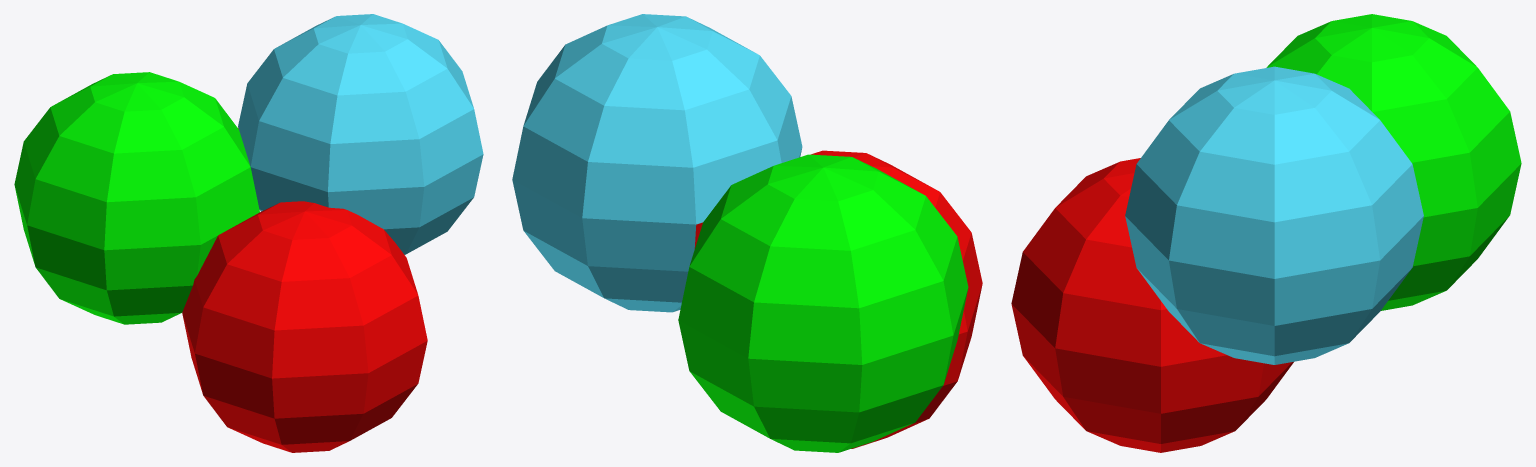
File: enemy_baloons.glb
The picture shows the model from 3 angles, left to right: view 1: azimuth 30°, elevation 25°; view 2: azimuth 150°, elevation 25°; view 3: azimuth 270°, elevation 25°; orthographic projection. The views are drawn at different scales.
Parts seen in each view (by area): view 1: Sphere; view 2: Sphere; view 3: Sphere.
Part boxes in pixels (<box>): Sphere: <box>14,14,483,452</box>; Sphere: <box>512,14,982,452</box>; Sphere: <box>1011,14,1521,452</box>.
Size of the model in its own units: 1.1 by 0.9269 by 1.02.
